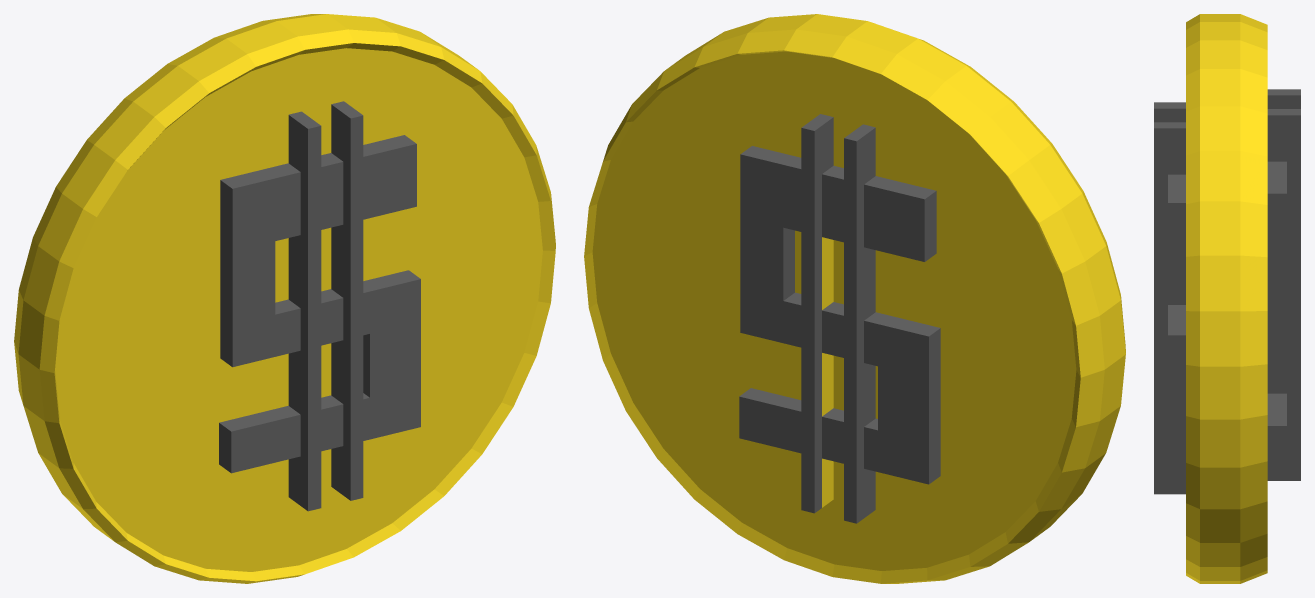
The model's file is coin.fbx.
The picture shows the model from 3 angles, left to right: view 1: azimuth 30°, elevation 25°; view 2: azimuth 150°, elevation 25°; view 3: azimuth 270°, elevation 25°; orthographic projection. The views are drawn at different scales.
Visible parts, largest first — view 1: Cylinder; view 2: Cylinder; view 3: Cylinder.
Part boxes in pixels (x1=…): Cylinder: x1=14, y1=14, x2=555, y2=583; Cylinder: x1=584, y1=14, x2=1125, y2=583; Cylinder: x1=1154, y1=14, x2=1300, y2=583.
Size of the model in its own units: 208 by 208 by 53.56.
